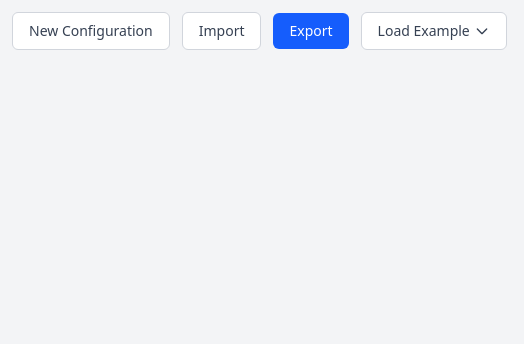
Toolbar › Load Example Button › closes dropdown after selecting an example
Open dropdown
Click the button with test id "load-example-button": (434, 31) left=361, top=12, right=507, bottom=50
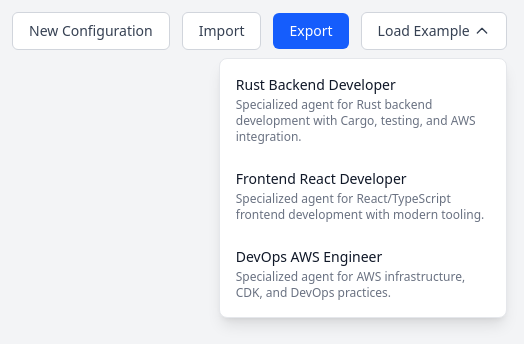
Select an example
Click the button with test id "example-option-rust-backend": (363, 110) left=220, top=63, right=506, bottom=157
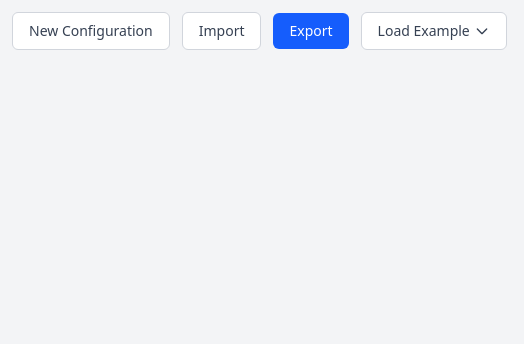
Check: the element with test id "example-dropdown" is gone
